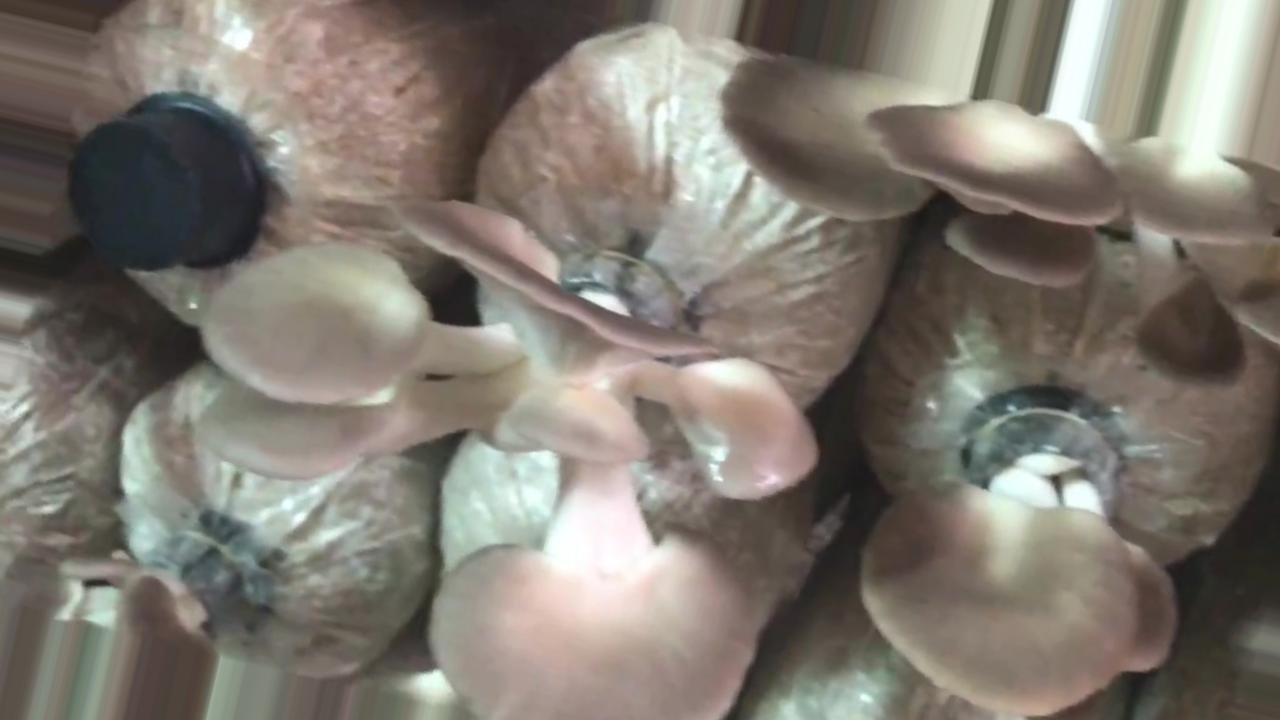nam: (197, 193, 827, 720), (721, 38, 1280, 386), (855, 392, 1177, 720)
